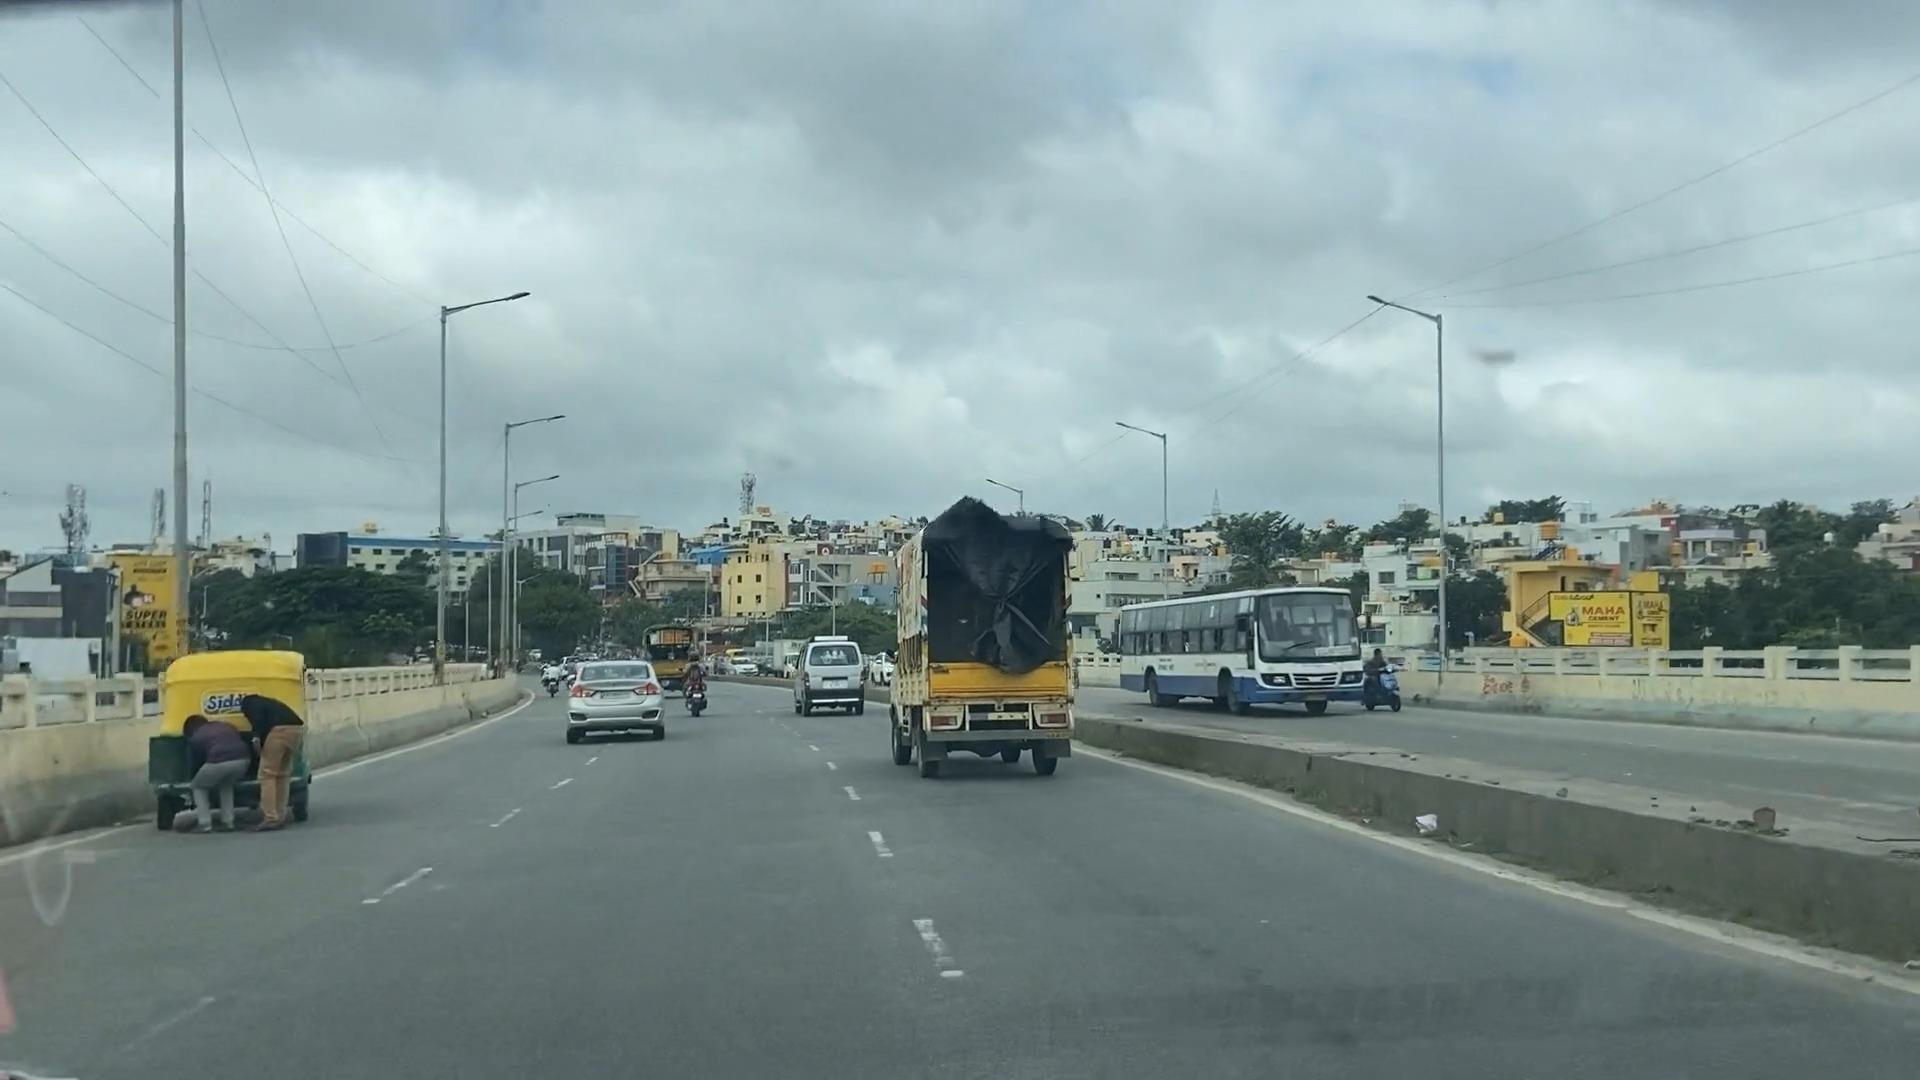HMV: (879, 508, 1119, 774), (1102, 588, 1372, 733)
